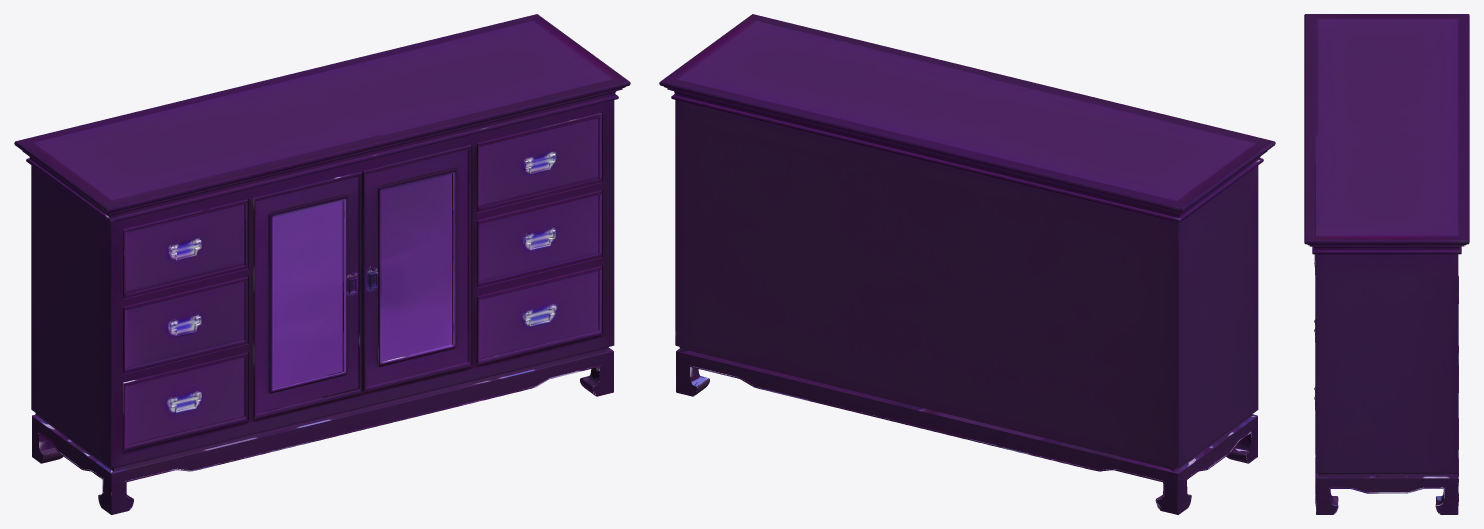
Rendered from edited_mesh.glb.
The picture shows the model from 3 angles, left to right: view 1: azimuth 30°, elevation 25°; view 2: azimuth 150°, elevation 25°; view 3: azimuth 270°, elevation 25°; orthographic projection. The views are drawn at different scales.
Parts seen in each view (by area): view 1: solid_001_wire; view 2: solid_001_wire; view 3: solid_001_wire.
Boxes of the visible parts, bbox=[...] form: solid_001_wire: bbox=[14, 14, 630, 514]; solid_001_wire: bbox=[659, 14, 1275, 514]; solid_001_wire: bbox=[1304, 14, 1469, 514].
Bounding box in the file's own units: 1.86 × 1.07 × 0.5733.
Materials: 1 (1 with a texture image).
